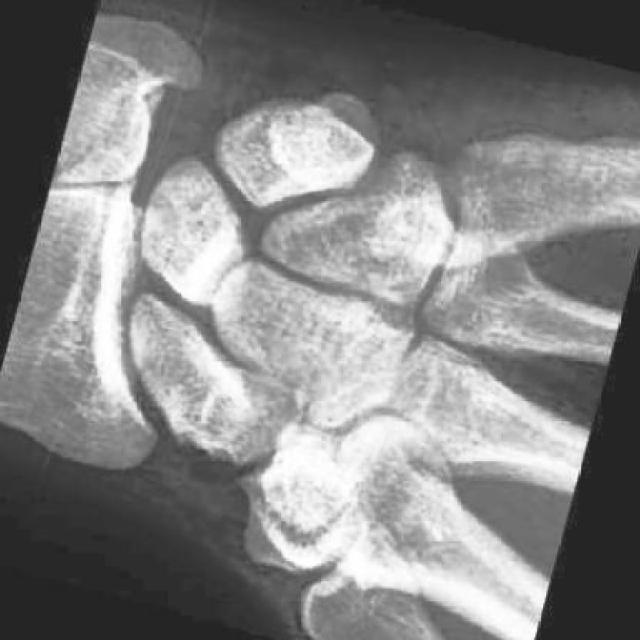Fracture: (365, 174, 470, 285)
